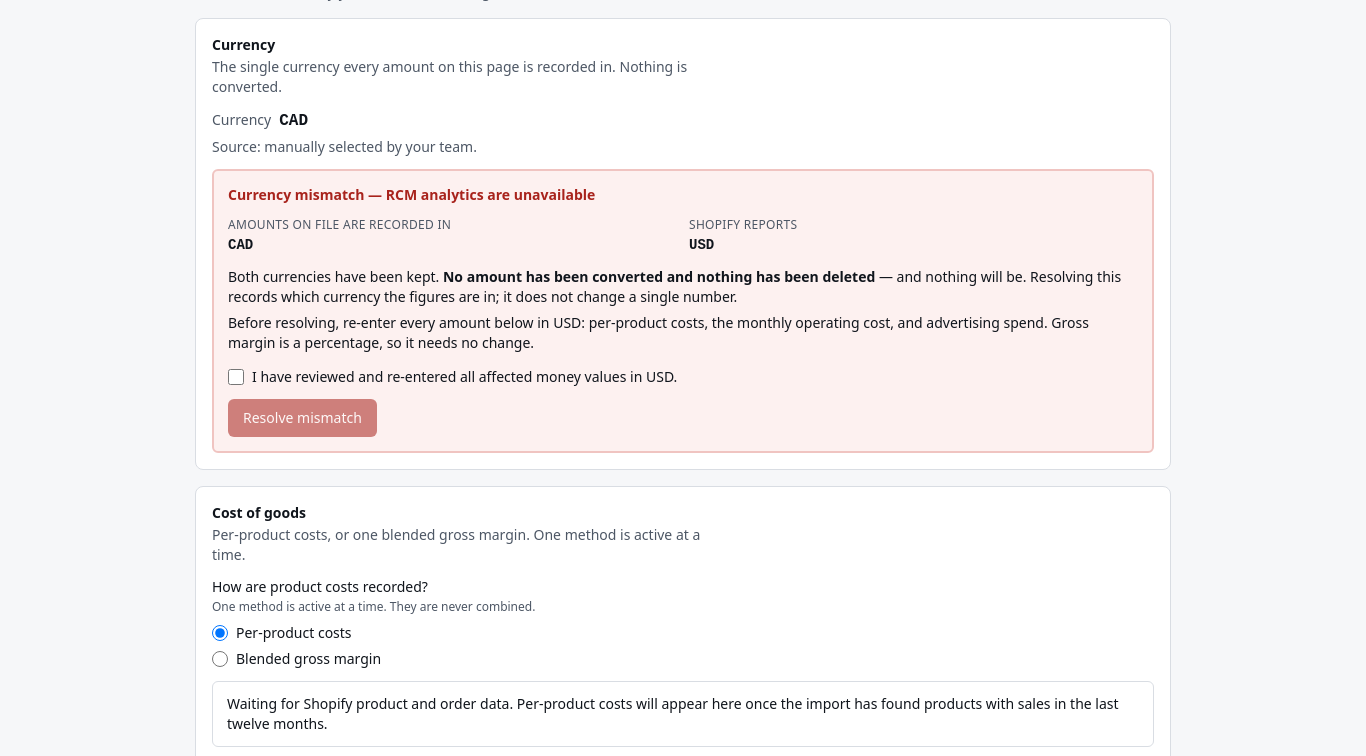
the currency control › a mismatch › maps a 409 no_mismatch to a fixed sentence
The width and height of the screenshot is (1366, 756).
(page scrolled)
Click the checkbox labelled "I have reviewed and re-entered". click: [236, 377]
box: [228,369,244,385]
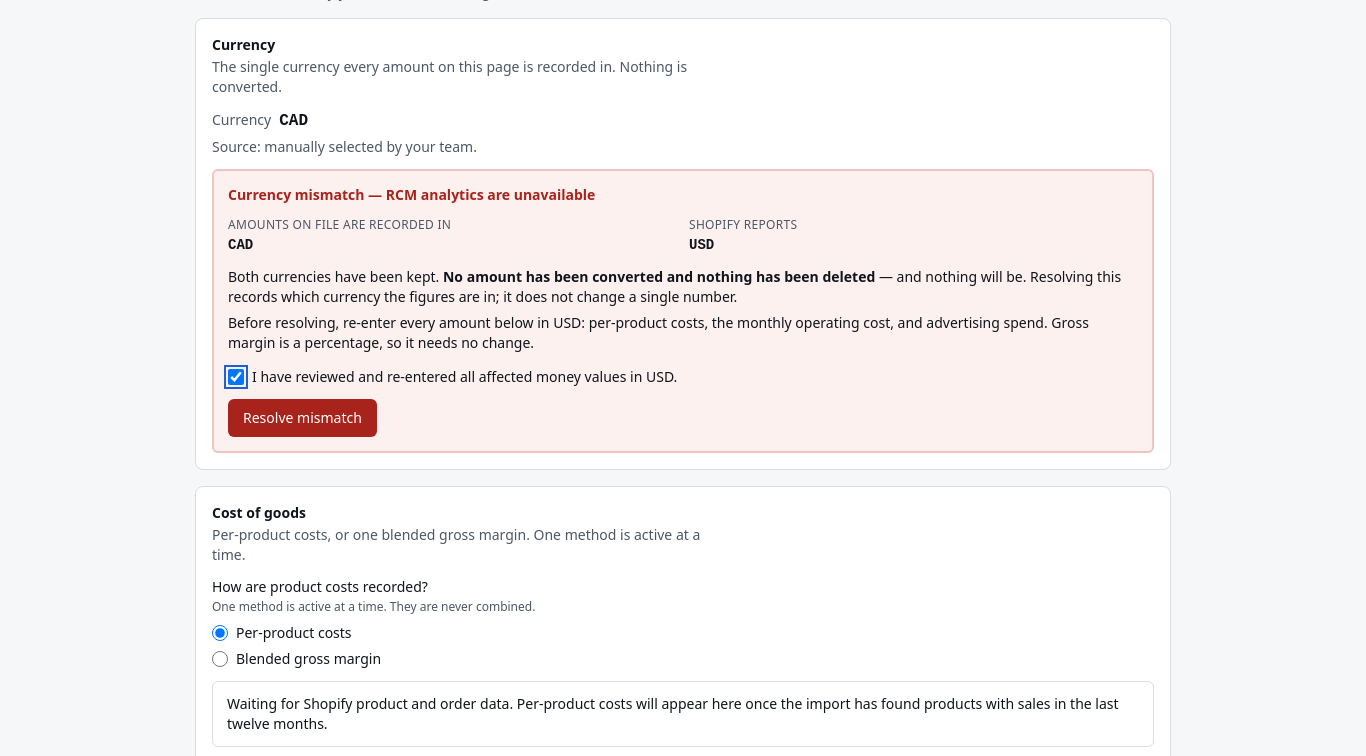
Click the button "Resolve mismatch". click: [302, 418]
box: [228,399,377,437]
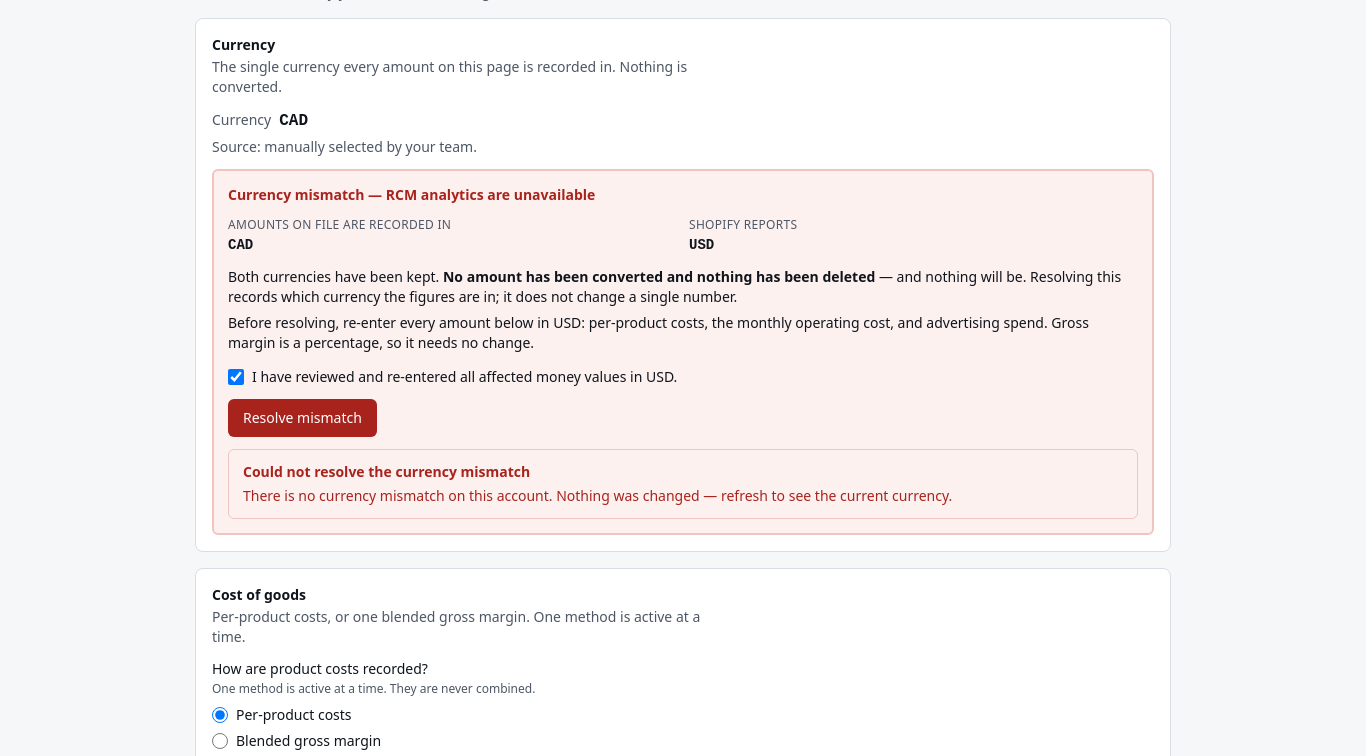
Expected: the element "Currency" does not show "raw backend prose", [195,18,1171,552]
Now the text "There is no currency mismatch on this account" is shown, box [243,486,952,505]
